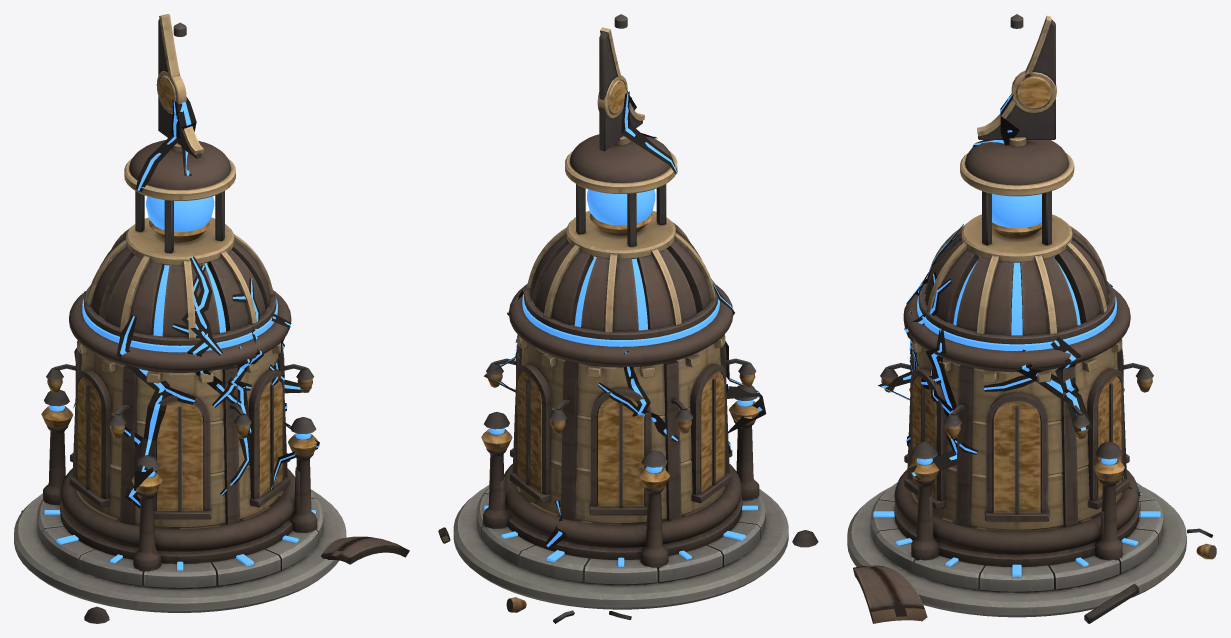
The model's file is needle_inner_serenade.glb.
3 views of the same model, side by side, from view 1: azimuth 30°, elevation 25°; view 2: azimuth 150°, elevation 25°; view 3: azimuth 270°, elevation 25° (orthographic). The views are drawn at different scales.
Parts seen in each view (by area): view 1: needle_inner_serenade_upper, needle_inner_serenade_base, needle_inner_serenade_dmg2, needle_inner_serenade_dmg1, needle_inner_serenade_ruin, needle_inner_serenade_glow.001, needle_inner_serenade_chip1, needle_inner_serenade_core, needle_inner_serenade_chip2, needle_inner_serenade_glow_base; view 2: needle_inner_serenade_upper, needle_inner_serenade_base, needle_inner_serenade_glow.001, needle_inner_serenade_ruin, needle_inner_serenade_chip2, needle_inner_serenade_dmg2, needle_inner_serenade_core, needle_inner_serenade_dmg1, needle_inner_serenade_chip1, needle_inner_serenade_glow_base; view 3: needle_inner_serenade_upper, needle_inner_serenade_base, needle_inner_serenade_ruin, needle_inner_serenade_dmg2, needle_inner_serenade_glow.001, needle_inner_serenade_chip2, needle_inner_serenade_dmg1, needle_inner_serenade_chip1, needle_inner_serenade_core, needle_inner_serenade_glow_base.
Part boxes in pixels (x1,y1,x2,y2): needle_inner_serenade_upper: (41, 14, 318, 571); needle_inner_serenade_base: (14, 489, 346, 612); needle_inner_serenade_dmg2: (116, 93, 311, 508); needle_inner_serenade_dmg1: (73, 256, 319, 495); needle_inner_serenade_ruin: (21, 407, 409, 623); needle_inner_serenade_glow.001: (49, 263, 311, 477); needle_inner_serenade_chip1: (101, 22, 258, 383); needle_inner_serenade_core: (146, 196, 214, 232); needle_inner_serenade_chip2: (135, 191, 273, 295); needle_inner_serenade_glow_base: (44, 510, 315, 570); needle_inner_serenade_upper: (481, 27, 759, 567); needle_inner_serenade_base: (453, 485, 788, 609); needle_inner_serenade_glow.001: (488, 256, 753, 473); needle_inner_serenade_ruin: (438, 407, 818, 623); needle_inner_serenade_chip2: (542, 184, 652, 367); needle_inner_serenade_dmg2: (484, 86, 766, 453); needle_inner_serenade_core: (587, 189, 655, 225); needle_inner_serenade_dmg1: (545, 351, 678, 548); needle_inner_serenade_chip1: (597, 14, 725, 348); needle_inner_serenade_glow_base: (484, 505, 757, 566); needle_inner_serenade_upper: (880, 15, 1153, 566); needle_inner_serenade_base: (847, 482, 1186, 617); needle_inner_serenade_ruin: (853, 462, 1216, 623); needle_inner_serenade_dmg2: (921, 91, 1092, 441); needle_inner_serenade_glow.001: (917, 256, 1117, 464); needle_inner_serenade_chip2: (977, 191, 1122, 382); needle_inner_serenade_dmg1: (878, 224, 1141, 516); needle_inner_serenade_chip1: (911, 14, 1056, 352); needle_inner_serenade_core: (992, 194, 1041, 228); needle_inner_serenade_glow_base: (873, 485, 1160, 576).
Size of the model in its own units: 2.86 by 4.74 by 2.95.
Materials: 4 (1 with a texture image).
